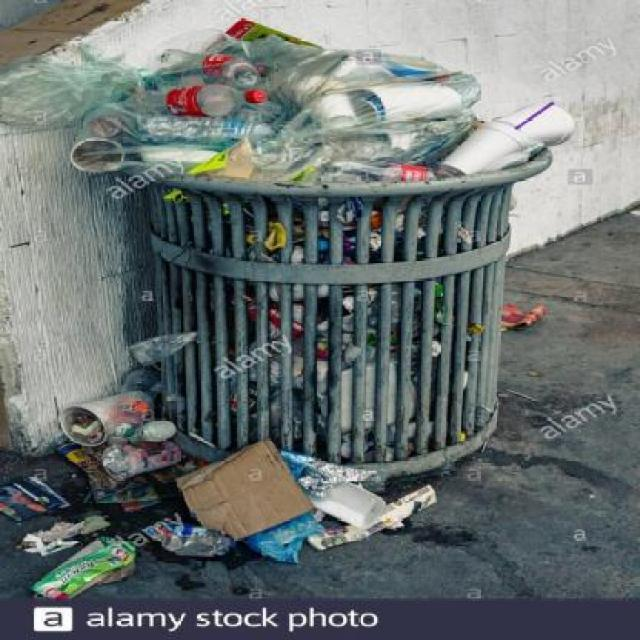garbage: (26, 8, 587, 472), (0, 383, 446, 597), (491, 295, 552, 338)
